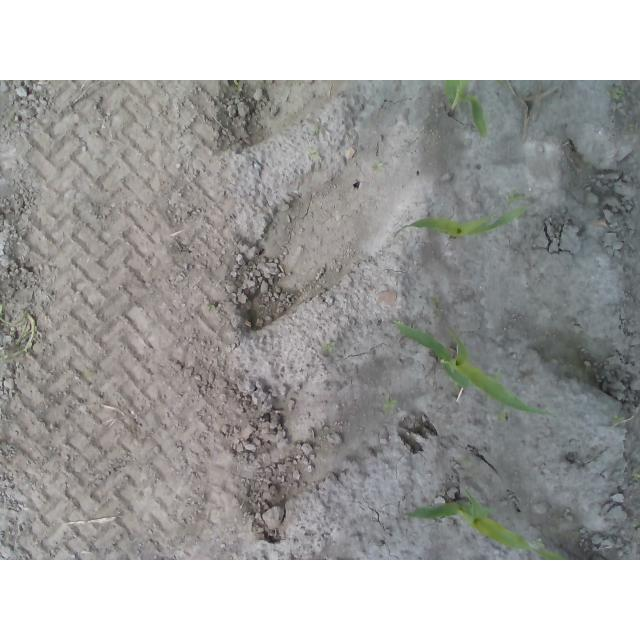Maize: (392, 314, 548, 417), (400, 204, 527, 246), (411, 489, 518, 528), (432, 81, 488, 137)
Weeds: (610, 409, 633, 432), (316, 340, 338, 357), (605, 87, 623, 104), (206, 299, 223, 313), (625, 123, 639, 138), (383, 399, 397, 409)
